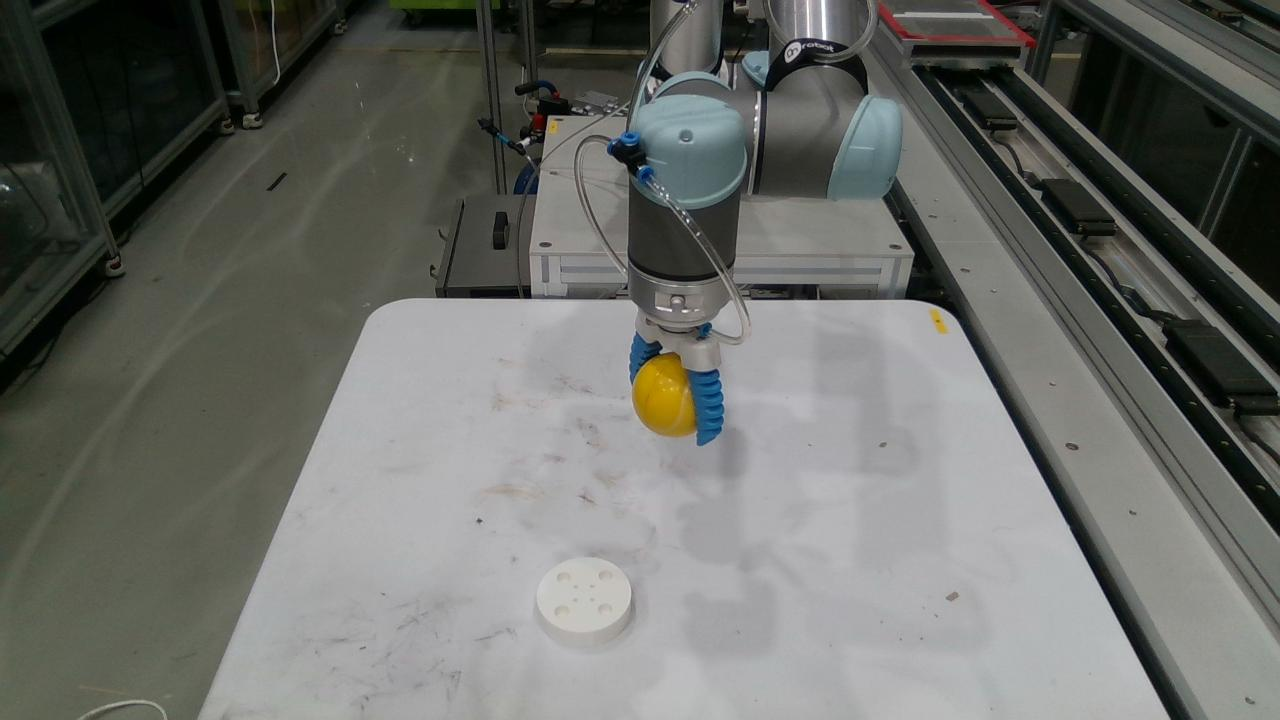UR5: (600, 0, 900, 369)
gripper_left: (629, 332, 661, 384)
gripper_right: (692, 370, 722, 443)
target: (538, 560, 630, 636), (634, 353, 694, 437)
